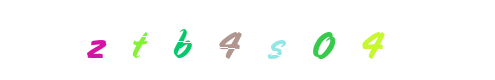0: (258, 0, 338, 80)
4: (207, 0, 287, 80), (272, 0, 352, 80)
B: (184, 0, 264, 80)
S: (225, 0, 305, 80)
T: (142, 0, 222, 80)
Z: (56, 0, 136, 80)
